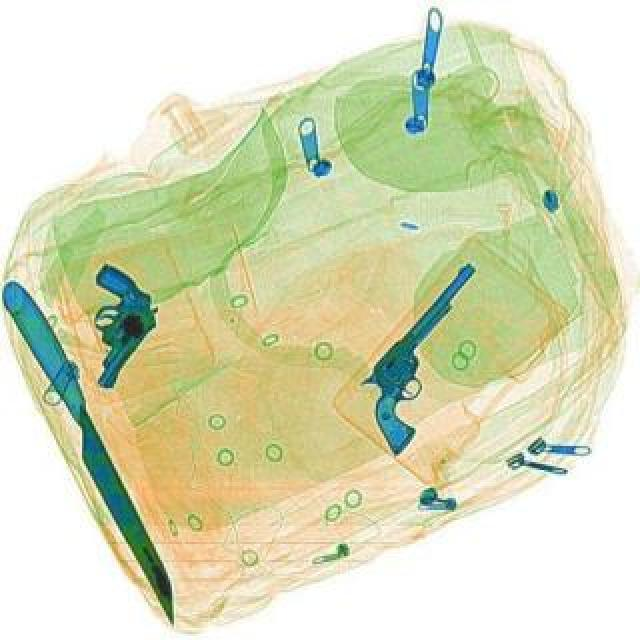gun: (328, 258, 532, 454), (42, 260, 174, 392)
knife: (0, 280, 192, 628)
